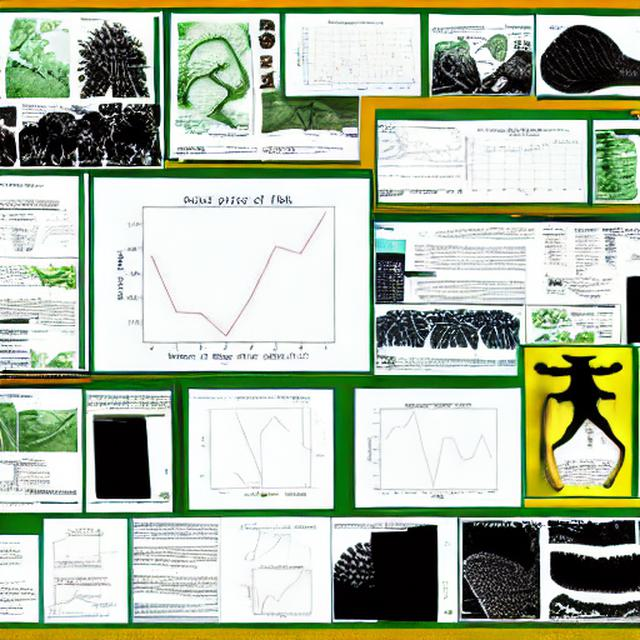Graph: (112, 181, 359, 366), (360, 396, 513, 501), (462, 126, 585, 198), (296, 20, 417, 93), (243, 562, 320, 620)
